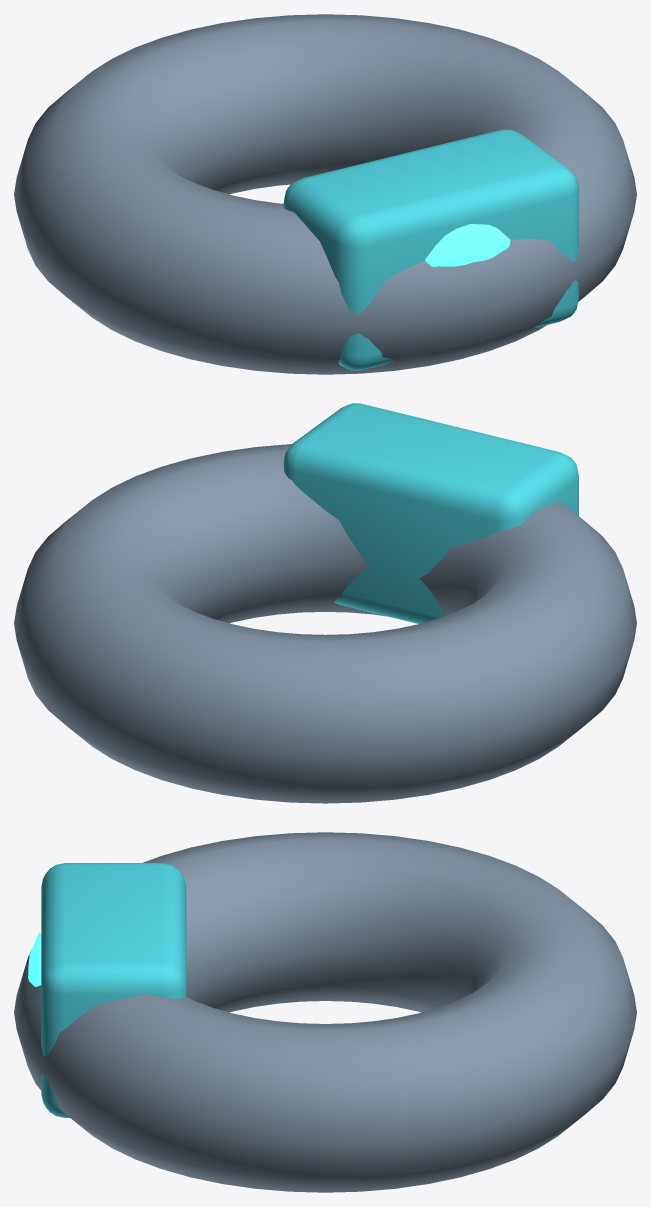
The model's file is bracelet_v2.glb.
3 views of the same model, one above another, from view 1: azimuth 30°, elevation 25°; view 2: azimuth 150°, elevation 25°; view 3: azimuth 270°, elevation 25° (orthographic).
Parts seen in each view (by area): view 1: SOLID_CUFF_PRIMARY, CUFF_FACE_ACCENT, CUFF_SEAL_EMISSIVE; view 2: SOLID_CUFF_PRIMARY, CUFF_FACE_ACCENT; view 3: SOLID_CUFF_PRIMARY, CUFF_FACE_ACCENT, CUFF_SEAL_EMISSIVE.
Boxes of the visible parts, x1,y1,x2,y2 form: SOLID_CUFF_PRIMARY: [14, 14, 636, 374]; CUFF_FACE_ACCENT: [283, 129, 578, 370]; CUFF_SEAL_EMISSIVE: [425, 224, 510, 266]; SOLID_CUFF_PRIMARY: [14, 444, 636, 803]; CUFF_FACE_ACCENT: [283, 403, 578, 623]; SOLID_CUFF_PRIMARY: [14, 832, 636, 1192]; CUFF_FACE_ACCENT: [41, 863, 186, 1117]; CUFF_SEAL_EMISSIVE: [28, 933, 41, 986].
Size of the model in its own units: 2.06 by 0.64 by 2.06.
